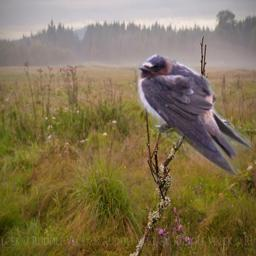Swallow: (135, 52, 254, 177)
